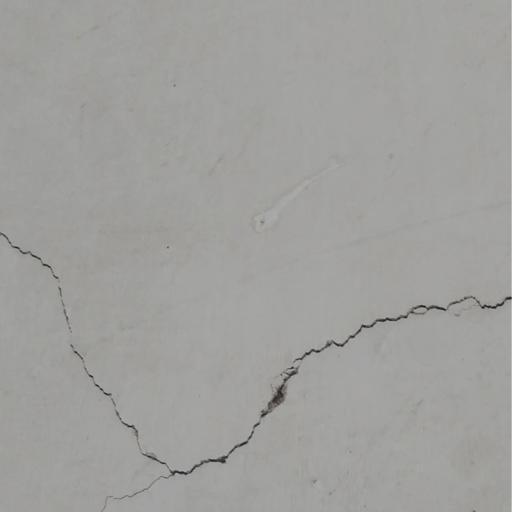major_crack: (0, 215, 512, 504)
